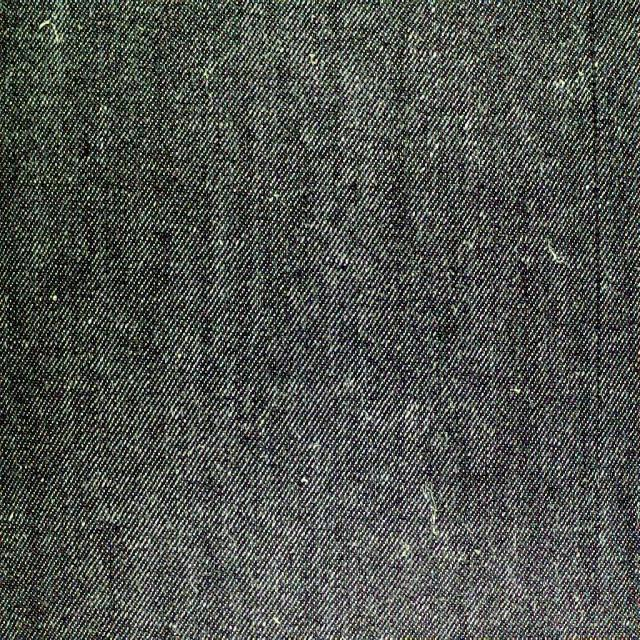pulled_or_thick_thread: (583, 8, 610, 400)
